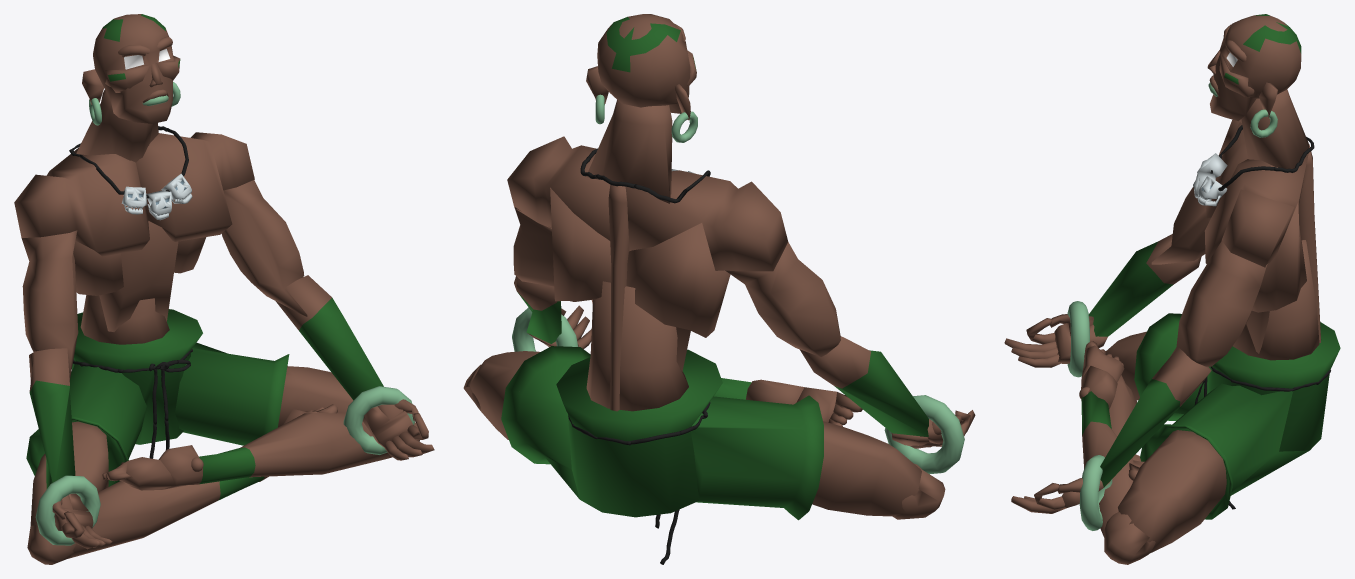
3 renders of one model, left to right at view 1: azimuth 30°, elevation 25°; view 2: azimuth 150°, elevation 25°; view 3: azimuth 270°, elevation 25°, orthographic. The views are drawn at different scales.
Parts seen in each view (by area): view 1: DEMI DIEU VERT; view 2: DEMI DIEU VERT; view 3: DEMI DIEU VERT.
Boxes of the visible parts, x1,y1,x2,y2 form: DEMI DIEU VERT: [14, 14, 434, 564]; DEMI DIEU VERT: [463, 14, 975, 564]; DEMI DIEU VERT: [1004, 14, 1340, 564].
Size of the model in its own units: 125 by 142 by 87.6.
